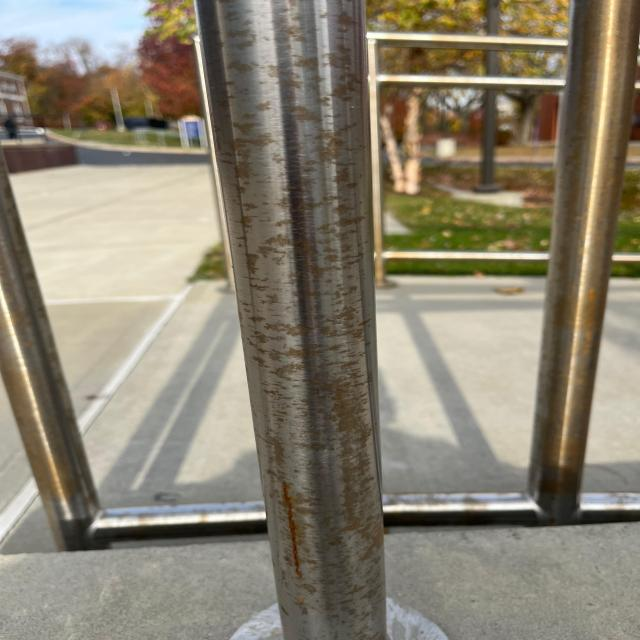Uniform Corrosion: (1, 1, 640, 640)
